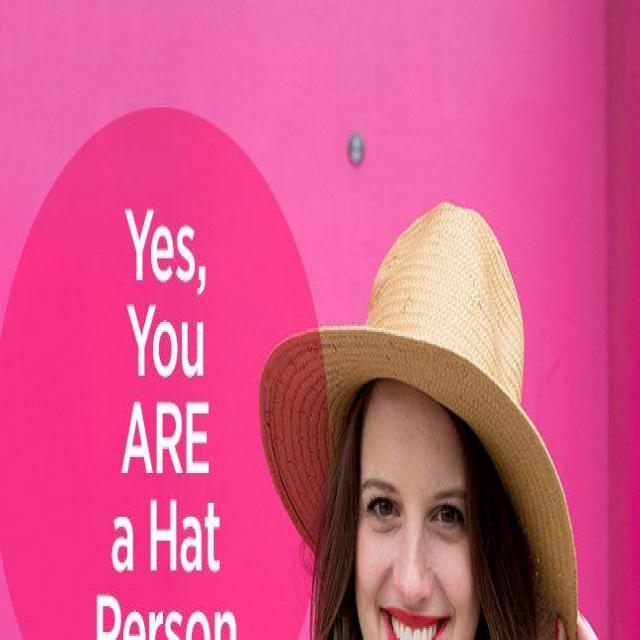hat: (259, 200, 580, 640)
